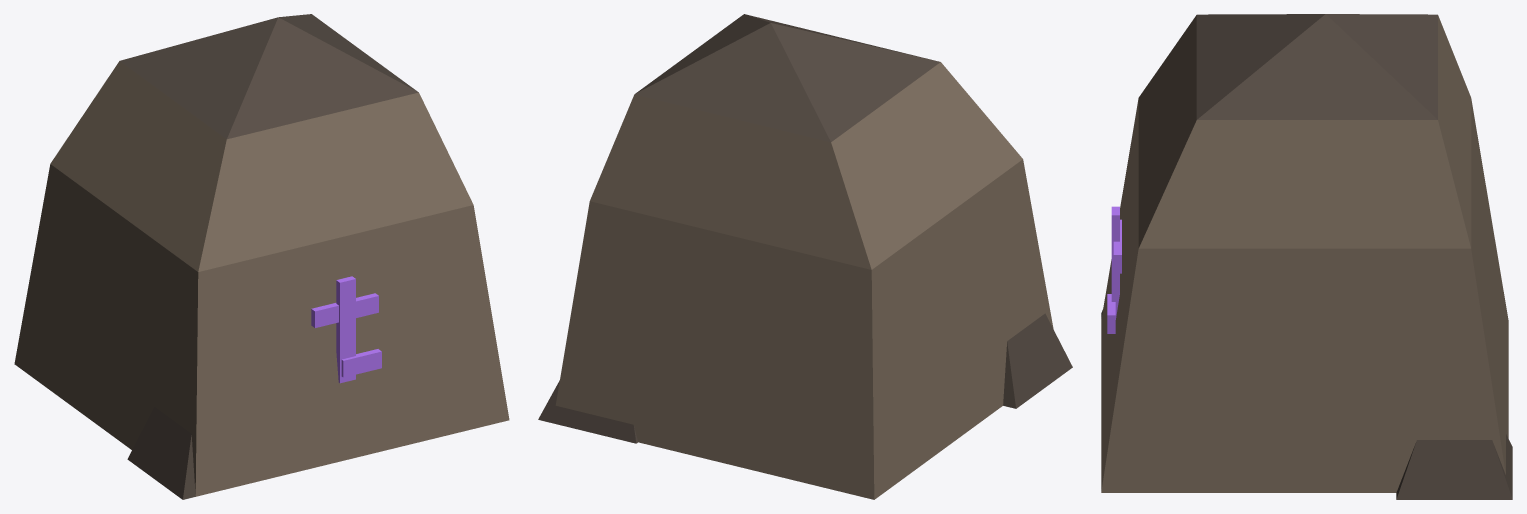
File: WallBlock.obj
3 renders of one model, left to right at view 1: azimuth 30°, elevation 25°; view 2: azimuth 150°, elevation 25°; view 3: azimuth 270°, elevation 25°, orthographic. The views are drawn at different scales.
Visible parts, largest first — view 1: Rock, Rune; view 2: Rock; view 3: Rock, Rune.
Part boxes in pixels (x1=…): Rock: x1=14, y1=14, x2=509, y2=499; Rune: x1=311, y1=276, x2=381, y2=383; Rock: x1=538, y1=14, x2=1072, y2=499; Rock: x1=1101, y1=14, x2=1512, y2=499; Rune: x1=1107, y1=206, x2=1121, y2=333.
Size of the model in its own units: 1.06 by 1.08 by 0.99.
